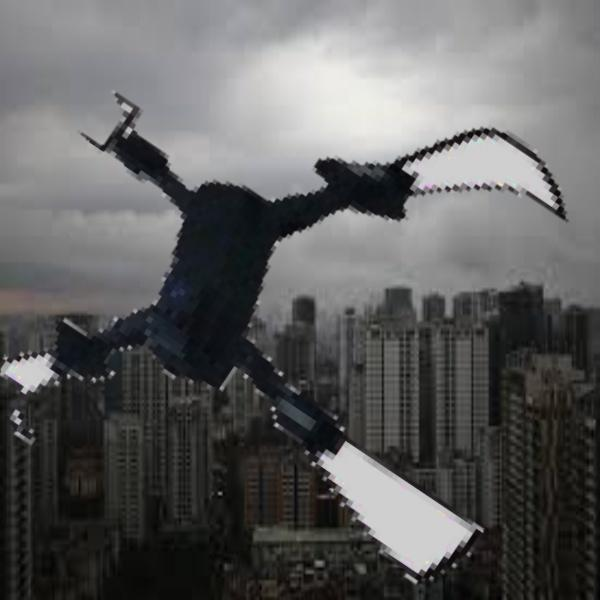drone: (15, 11, 599, 595)
